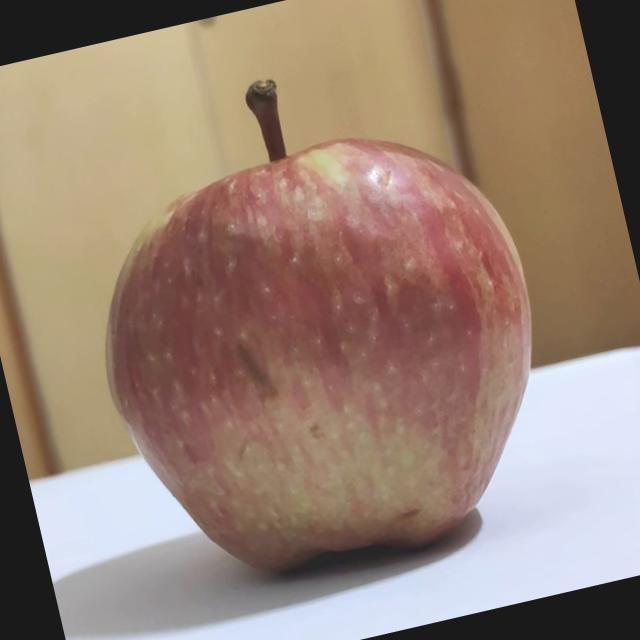apple: (41, 29, 595, 618)
